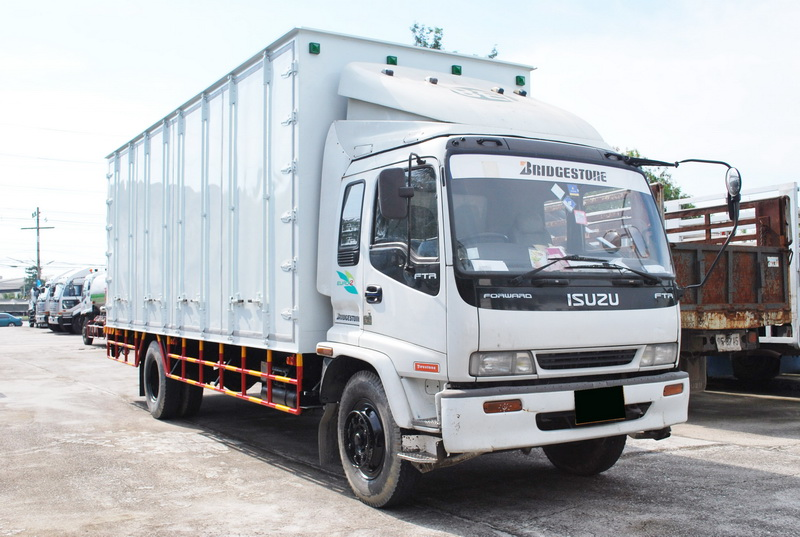truck: (310, 63, 696, 508)
